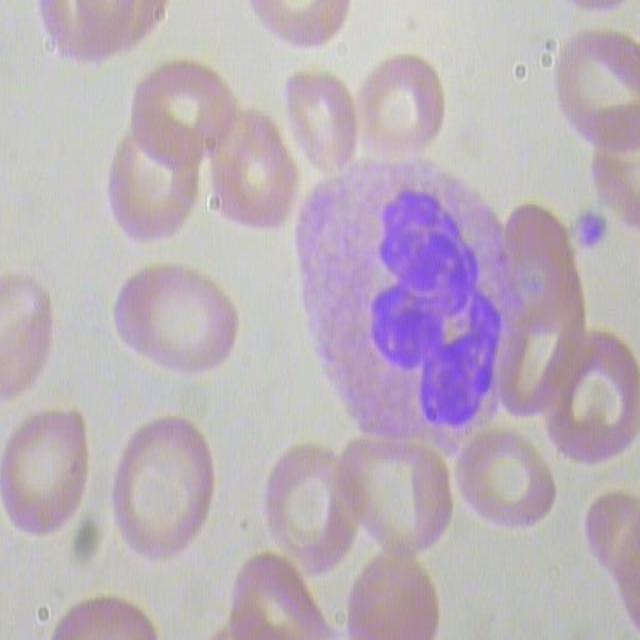Platelets: (570, 206, 617, 253)
RBC: (104, 417, 225, 571), (1, 405, 98, 559), (112, 266, 243, 380), (119, 64, 244, 182), (82, 128, 207, 246), (258, 446, 362, 584), (451, 432, 571, 546), (201, 99, 302, 233), (548, 18, 640, 156), (349, 46, 453, 168), (335, 548, 456, 640), (1, 257, 67, 403), (281, 63, 357, 177)
WBC: (278, 149, 526, 463)
